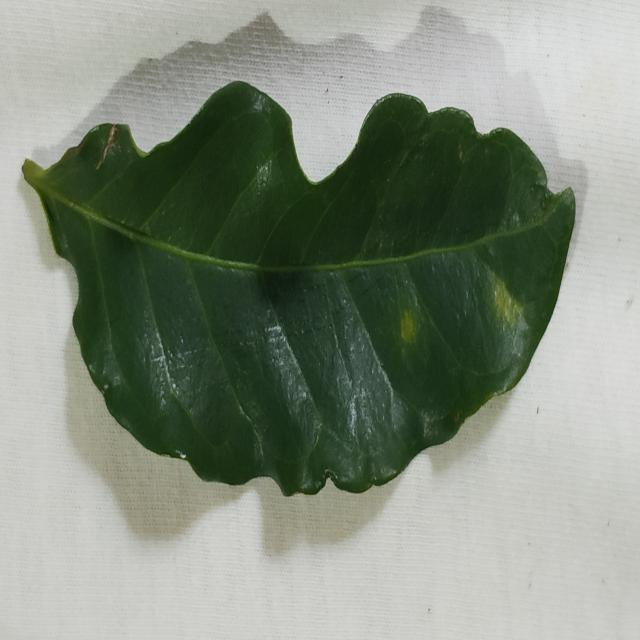Enfermedad-Roya: (20, 82, 578, 498)
